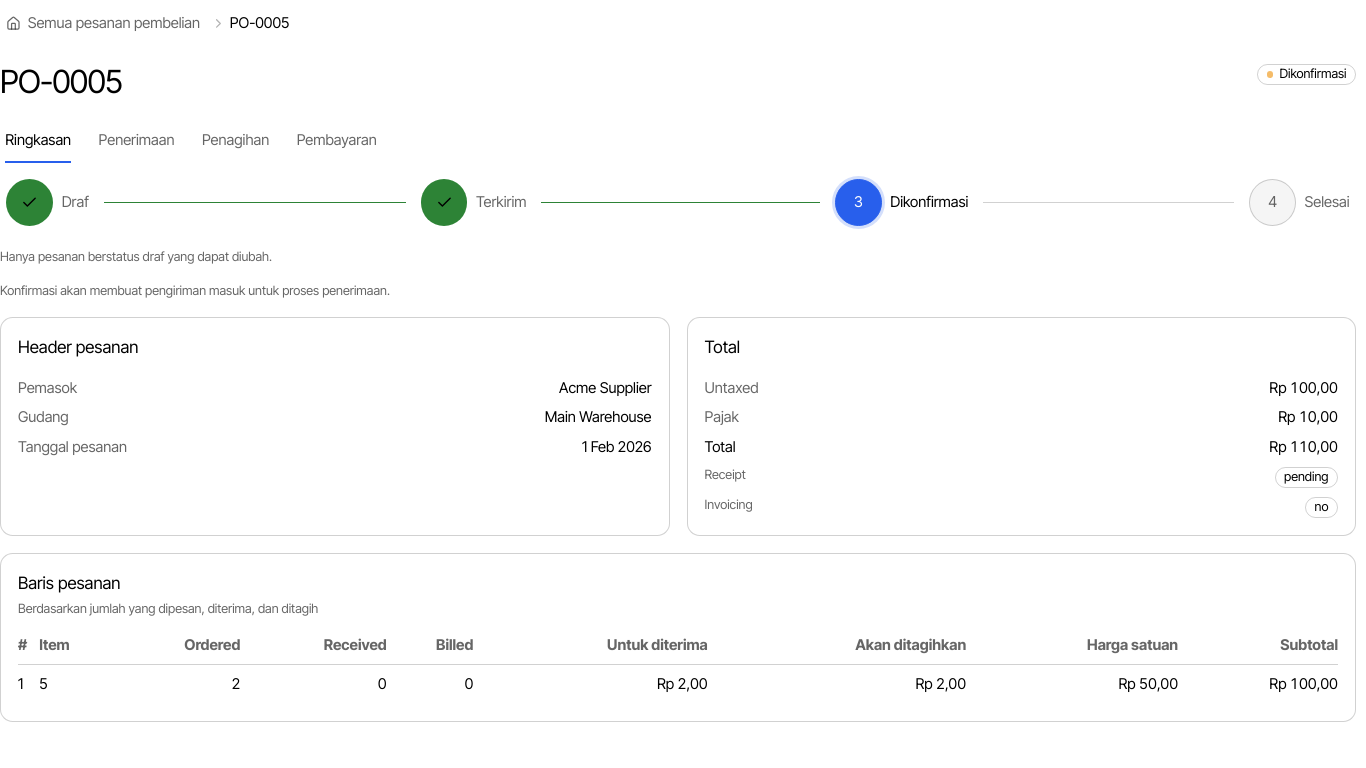
PurchaseOrderDetail branches5 › cancels the bill dialog
Click the tab "Penagihan" at x=236, y=141, box [201, 117, 270, 164]
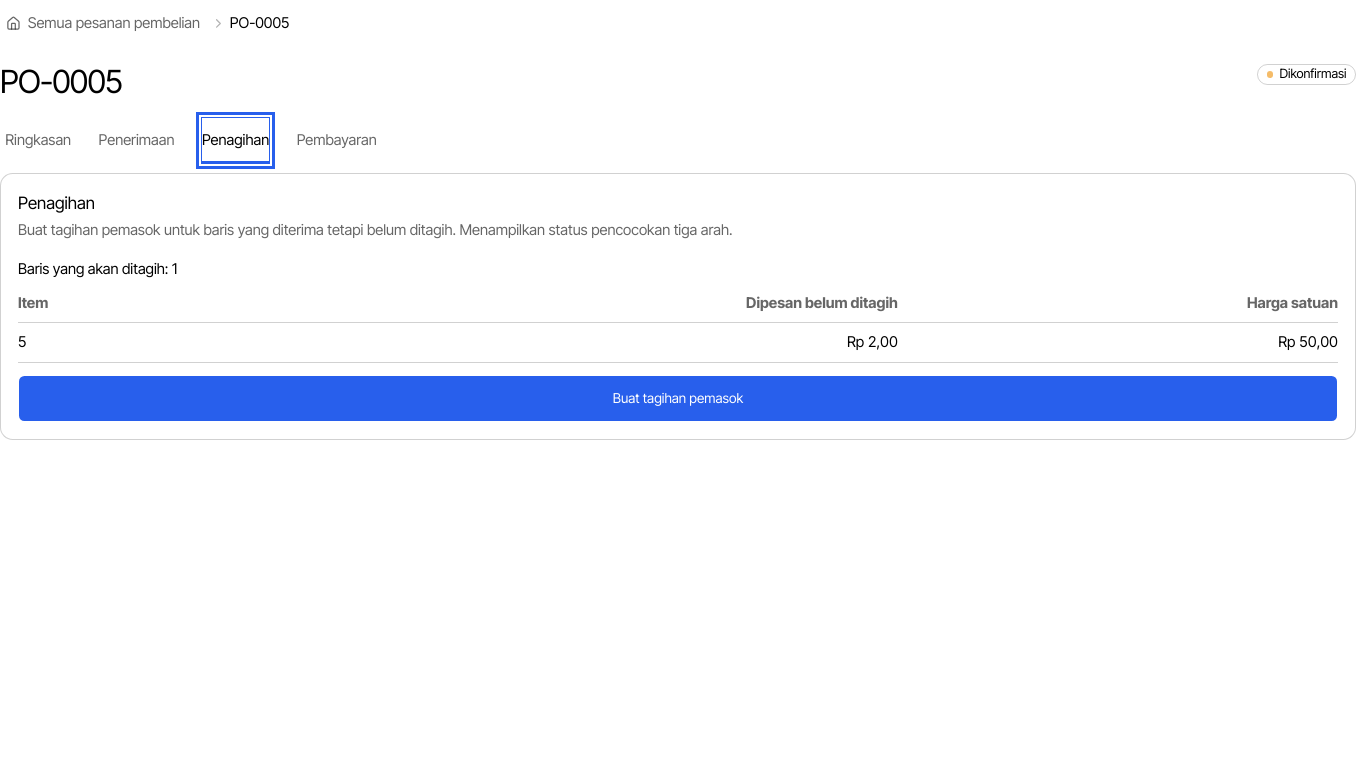
Click the button "Buat tagihan pemasok" at x=678, y=399, box [18, 375, 1338, 422]
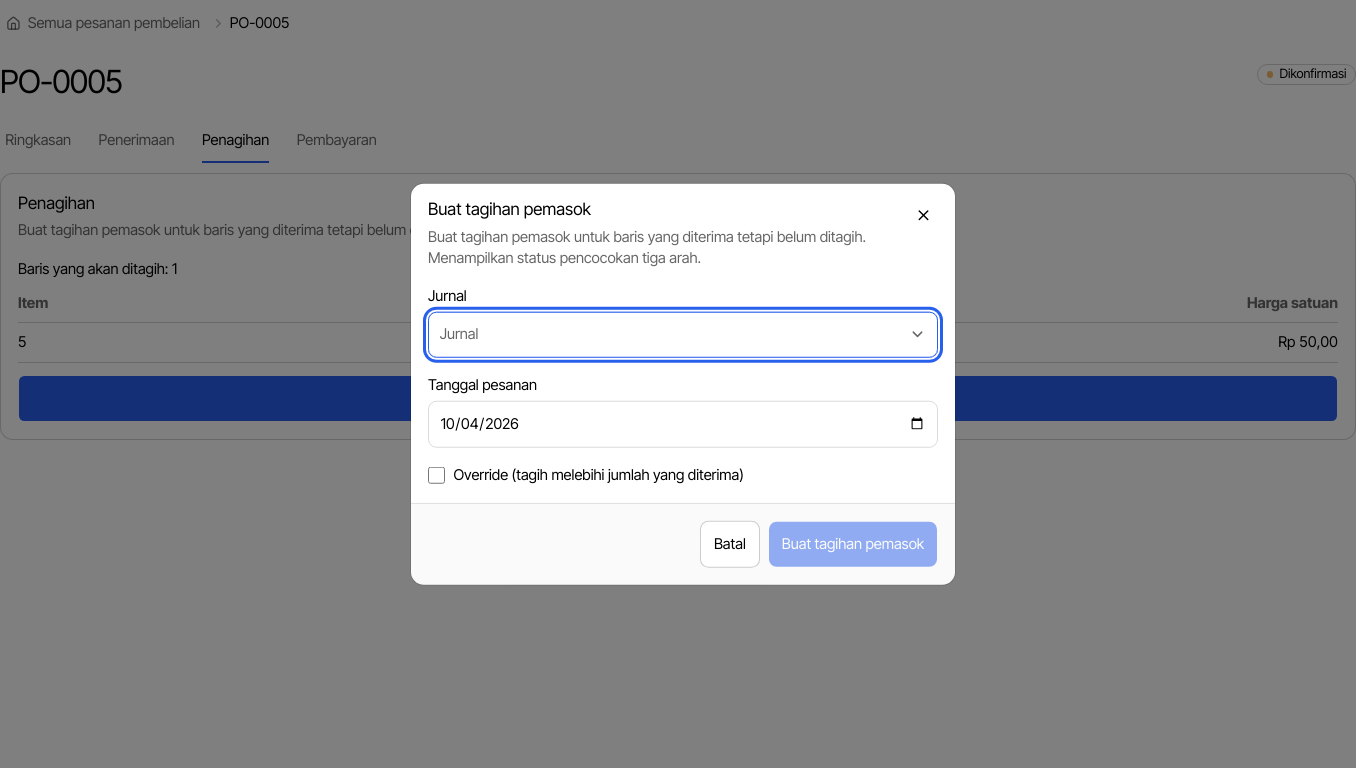
Click the button "Batal" at x=730, y=544, box [700, 520, 760, 567]
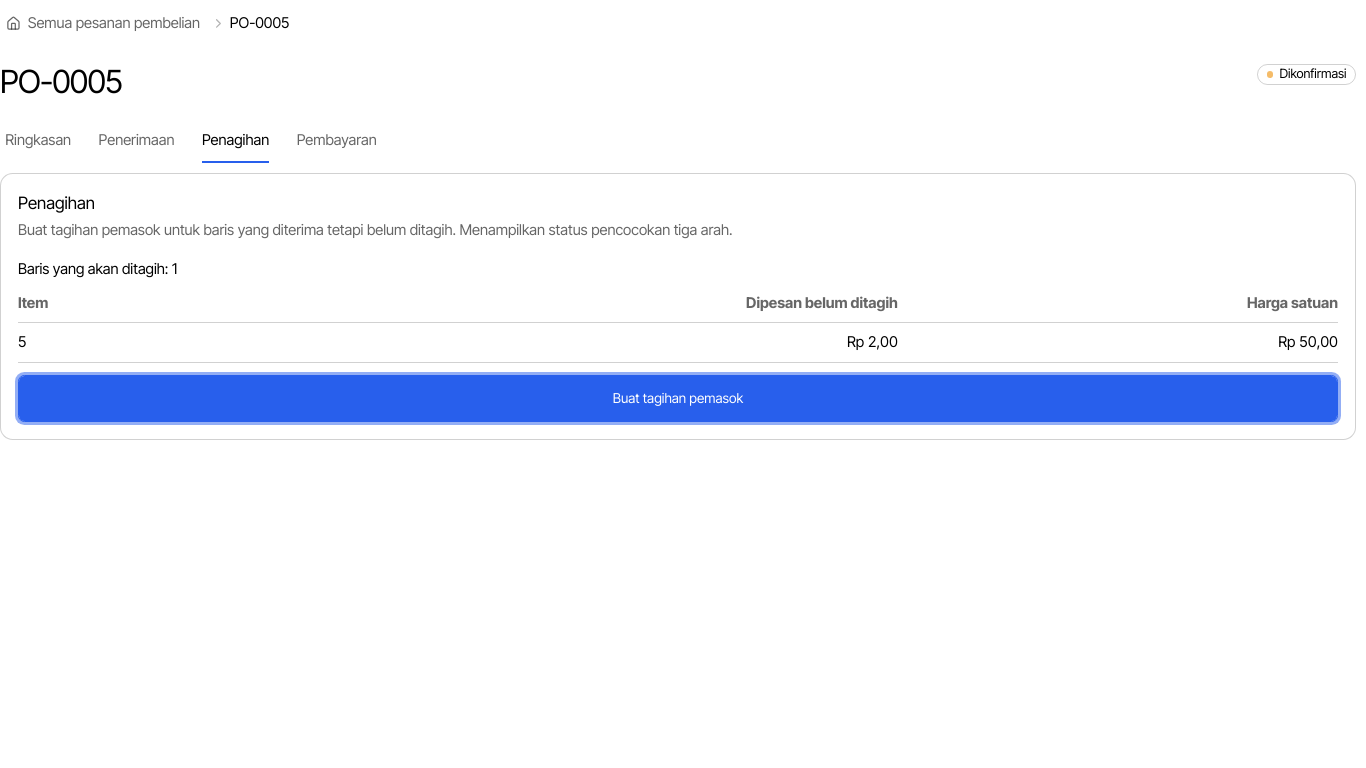
Expected: the dialog is gone
